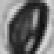correct: (4, 0, 50, 54)
